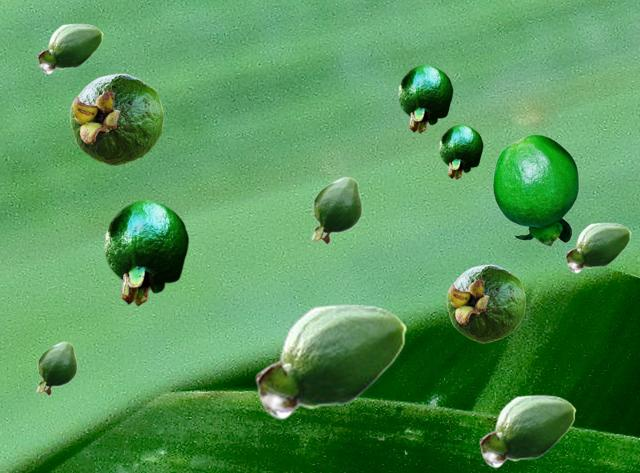guava: (255, 303, 406, 419), (492, 134, 578, 245), (104, 199, 188, 305), (69, 73, 163, 165), (479, 394, 575, 467), (446, 264, 525, 342), (398, 64, 452, 132), (311, 176, 361, 244), (37, 23, 102, 73), (565, 222, 630, 272), (439, 124, 482, 178), (36, 341, 76, 395)
